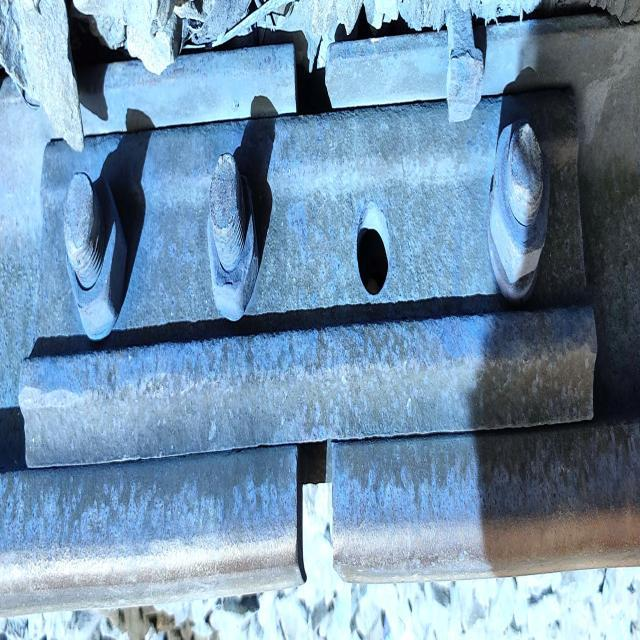Defective Joint: (44, 130, 601, 446)
